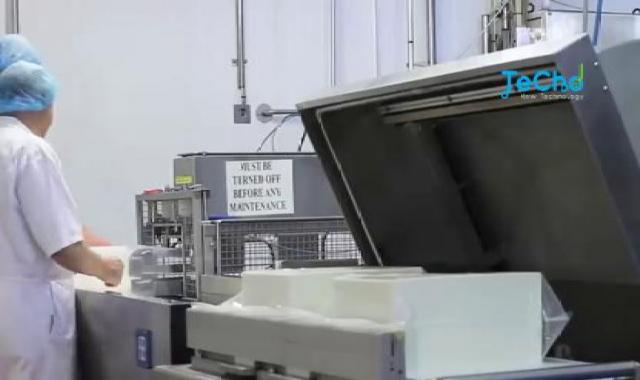hairnet: (0, 62, 68, 114), (0, 31, 43, 77)
